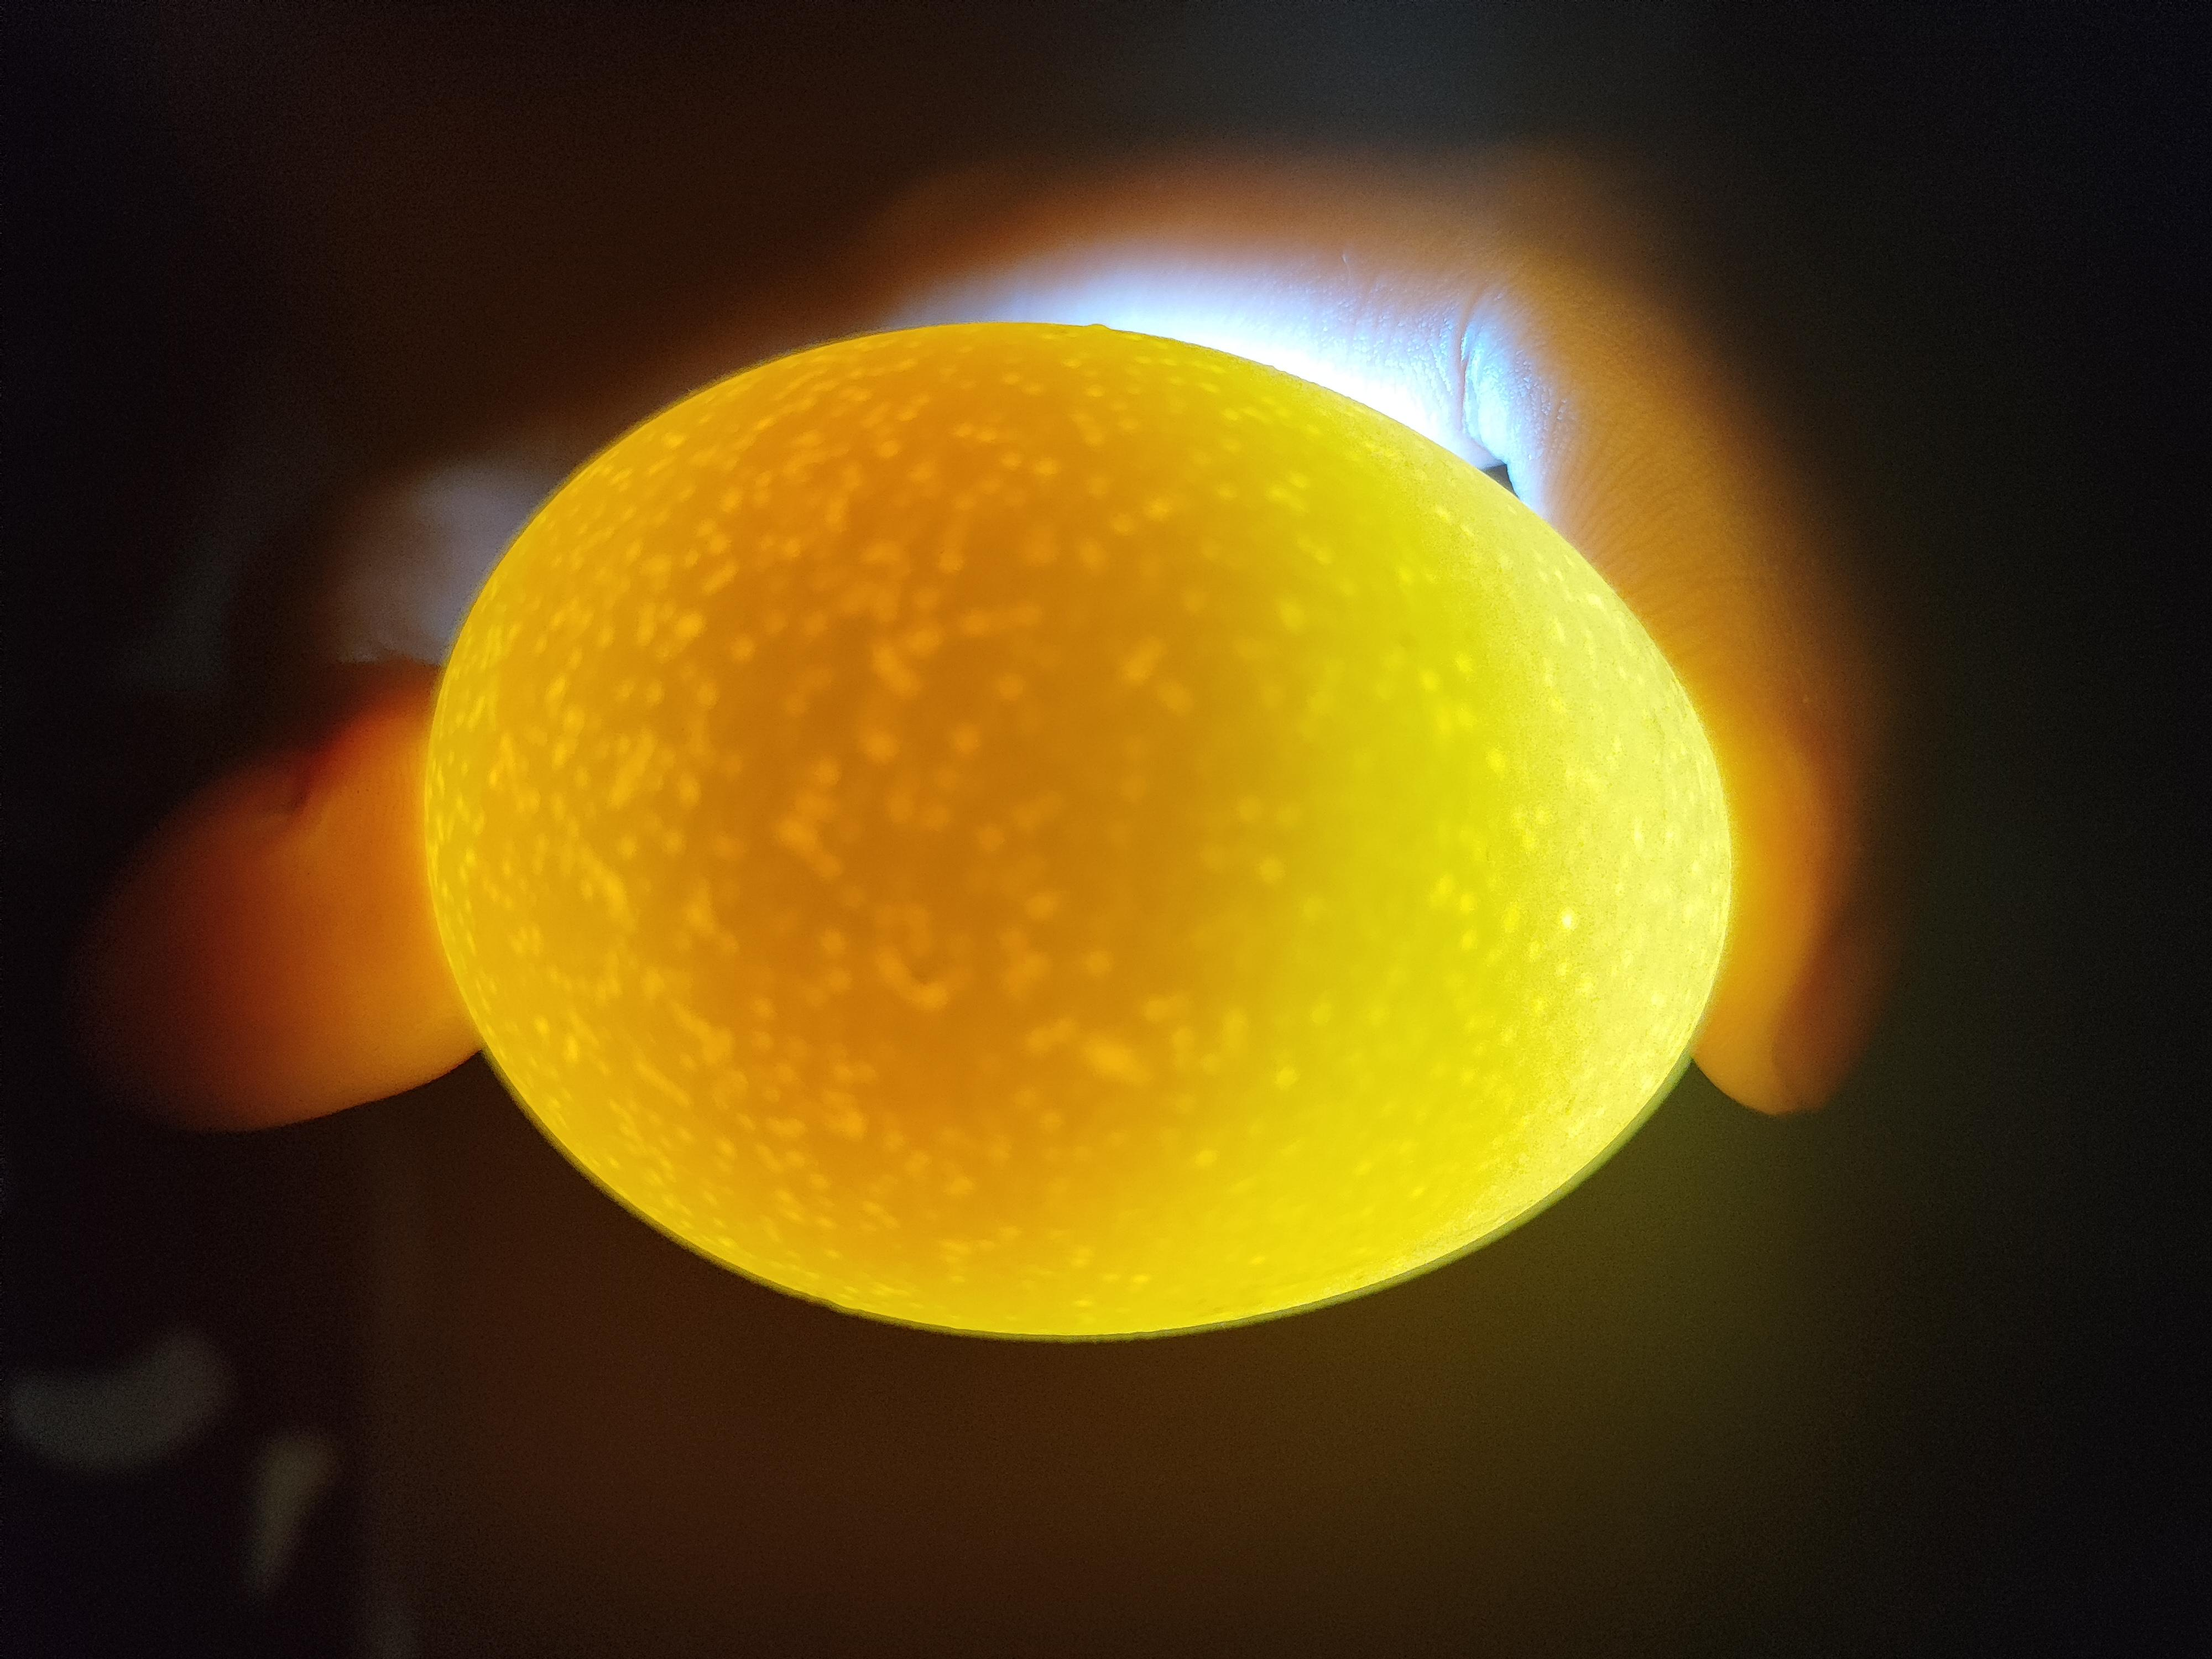A - Good: (415, 307, 1752, 1361)
